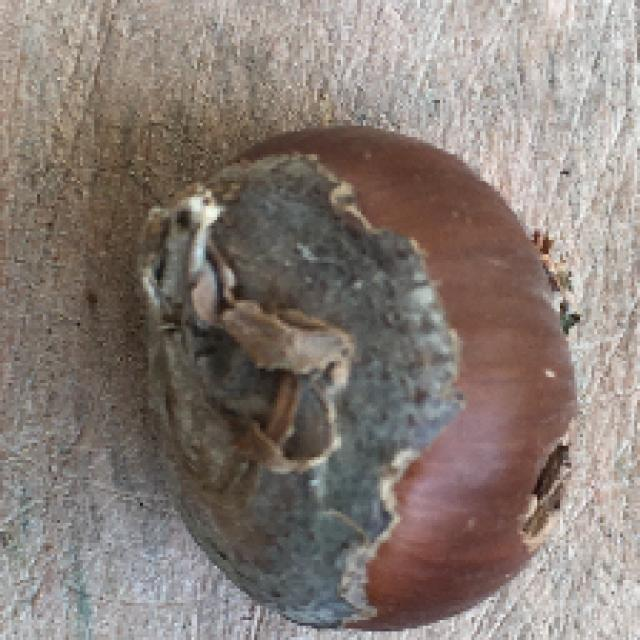damagedHazelnut: (123, 105, 586, 640)
